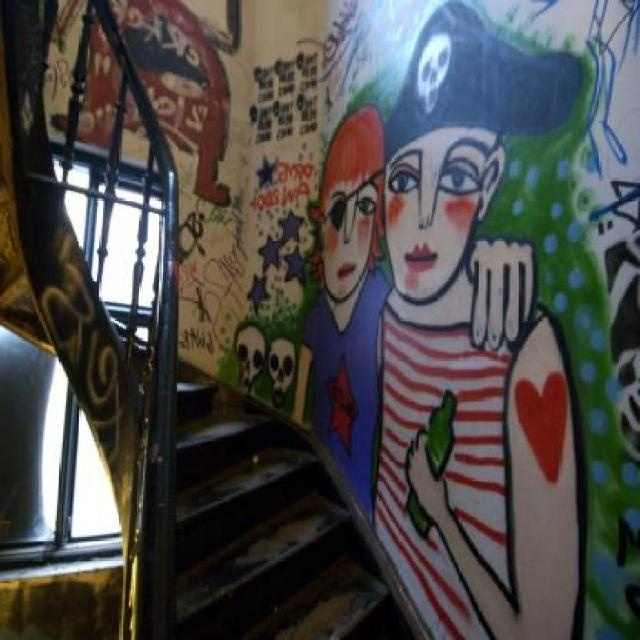stair: (118, 337, 418, 640)
